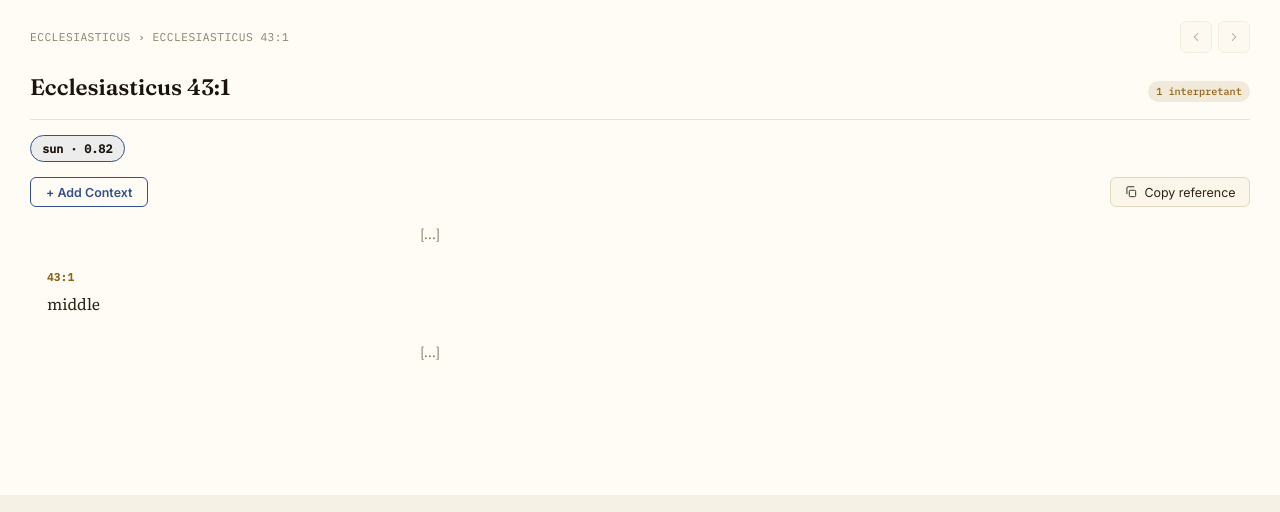
Test: Add Context › shows "Full context loaded" and disables the button once both edges are bounded
The image size is (1280, 512).
Click the button "+ Add Context".
click(89, 192)  # box top-left (30, 177), bottom-right (148, 208)
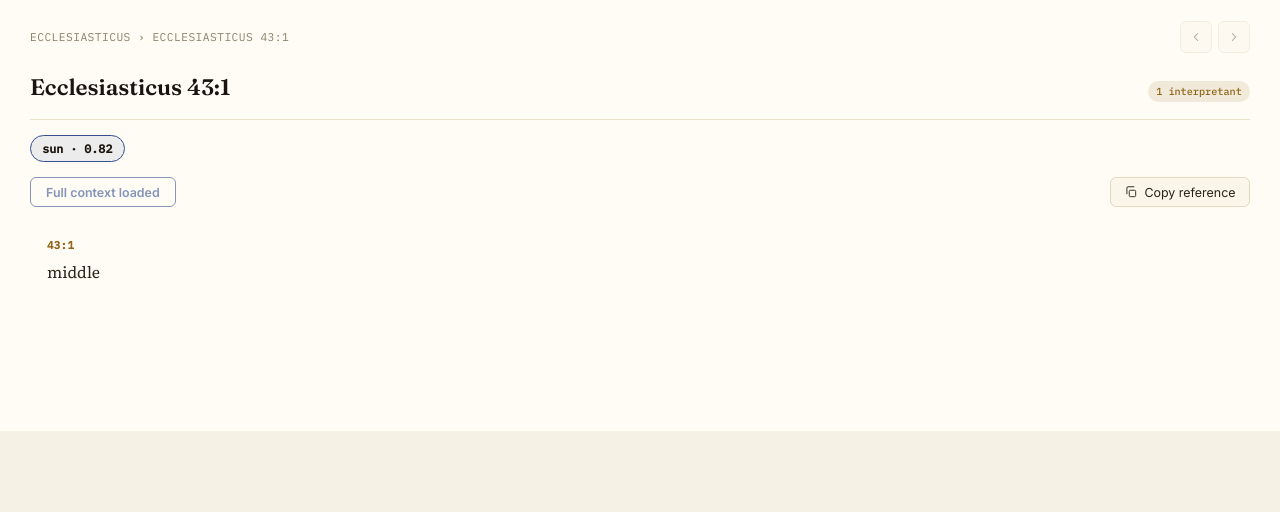
expect the button "Full context loaded" is disabled: met, box top-left (30, 177), bottom-right (176, 208)
